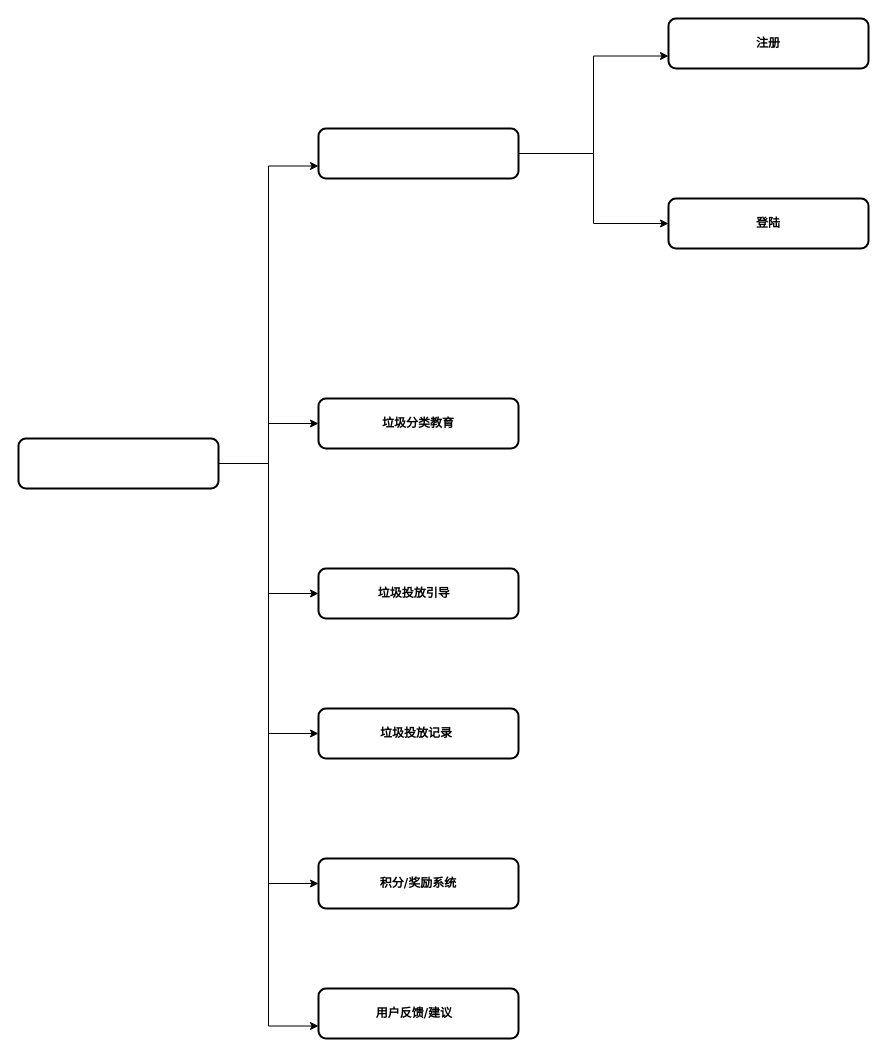
The diagram is 886 pixels wide and 1056 high, and some of its shapes have lost their labels. Each missing label, with the centre of its shape:
垃圾分类系统前端功能结构图: pixel 118 463
登陆注册: pixel 418 153
